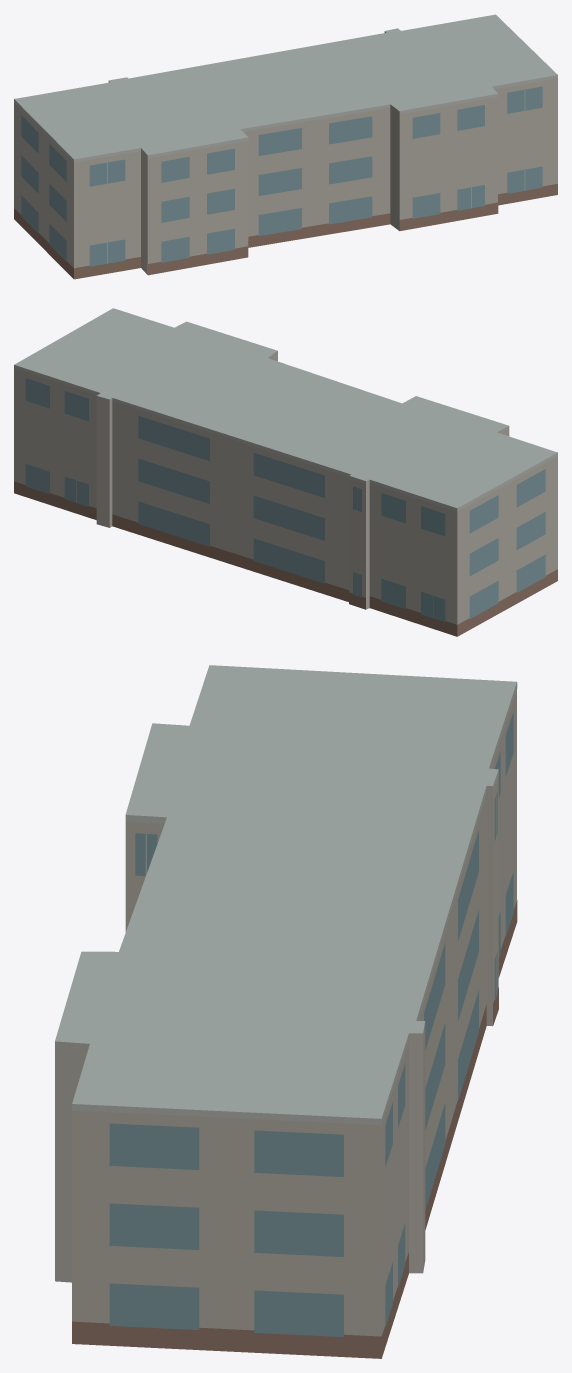
Rendered from survey-upis-32956241.glb.
3 views of the same model, one above another, from view 1: azimuth 30°, elevation 25°; view 2: azimuth 150°, elevation 25°; view 3: azimuth 270°, elevation 25° (orthographic). The views are drawn at different scales.
Visible parts, largest first — view 1: survey-upis-32956241.tmp; view 2: survey-upis-32956241.tmp; view 3: survey-upis-32956241.tmp.
Boxes of the visible parts, bbox=[...] form: survey-upis-32956241.tmp: bbox=[14, 14, 557, 279]; survey-upis-32956241.tmp: bbox=[14, 308, 557, 636]; survey-upis-32956241.tmp: bbox=[55, 665, 517, 1358].
Bounding box in the file's own units: 37.11 × 9.15 × 15.99.
